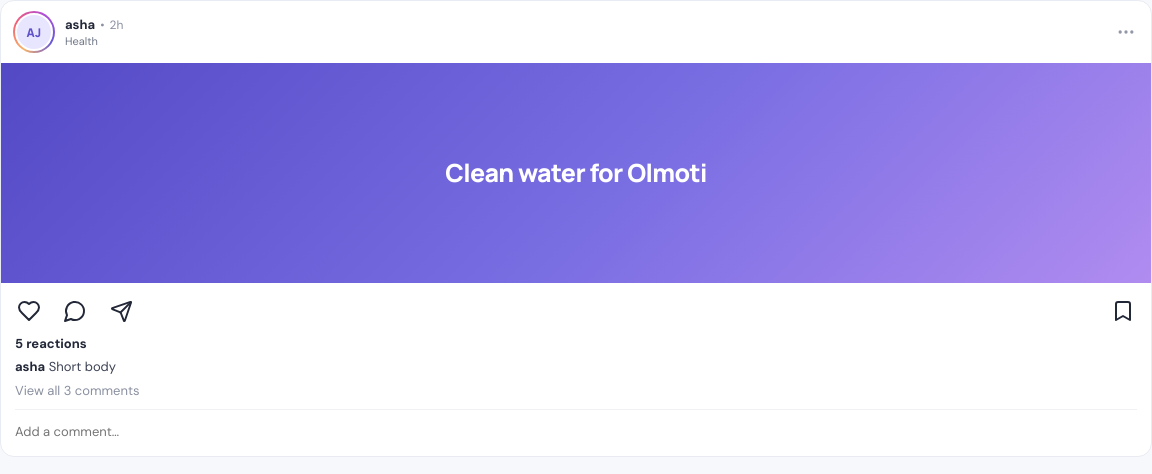
Test: FeedPost › posts a quick comment and bumps the count
The width and height of the screenshot is (1152, 474).
Type "Great idea" into the field named "comment on".
click(576, 431); type("Great idea")  # box [15,418,1137,444]
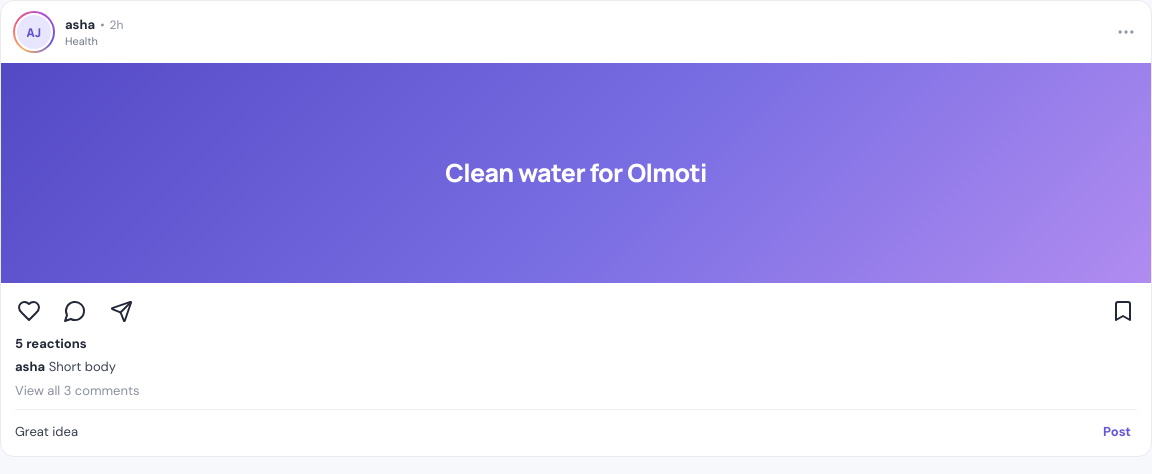
Click the button "Post".
click(1117, 431)  # box [1097,422,1137,440]
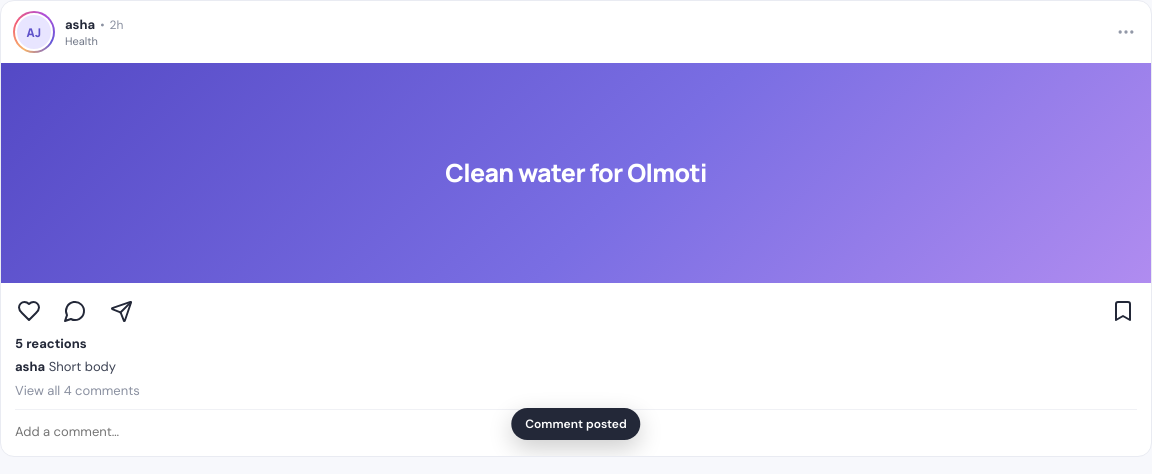
Check: the link "View all 4 comments" is shown, box [15,382,140,398]
